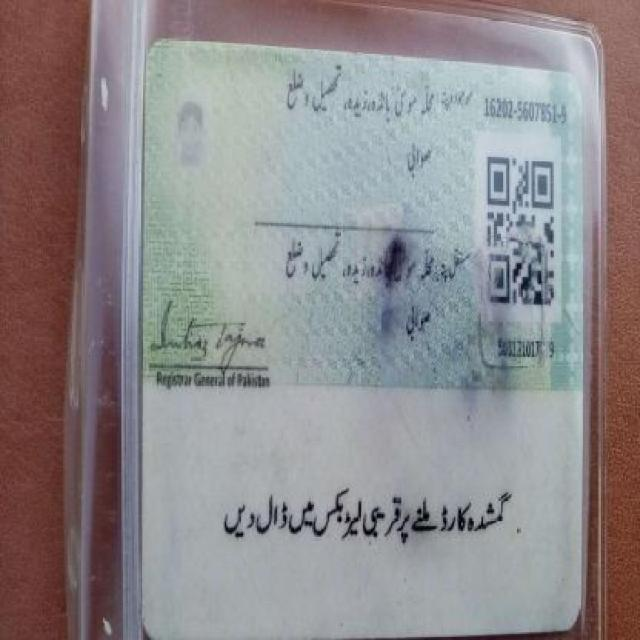Back: (132, 34, 592, 634)
